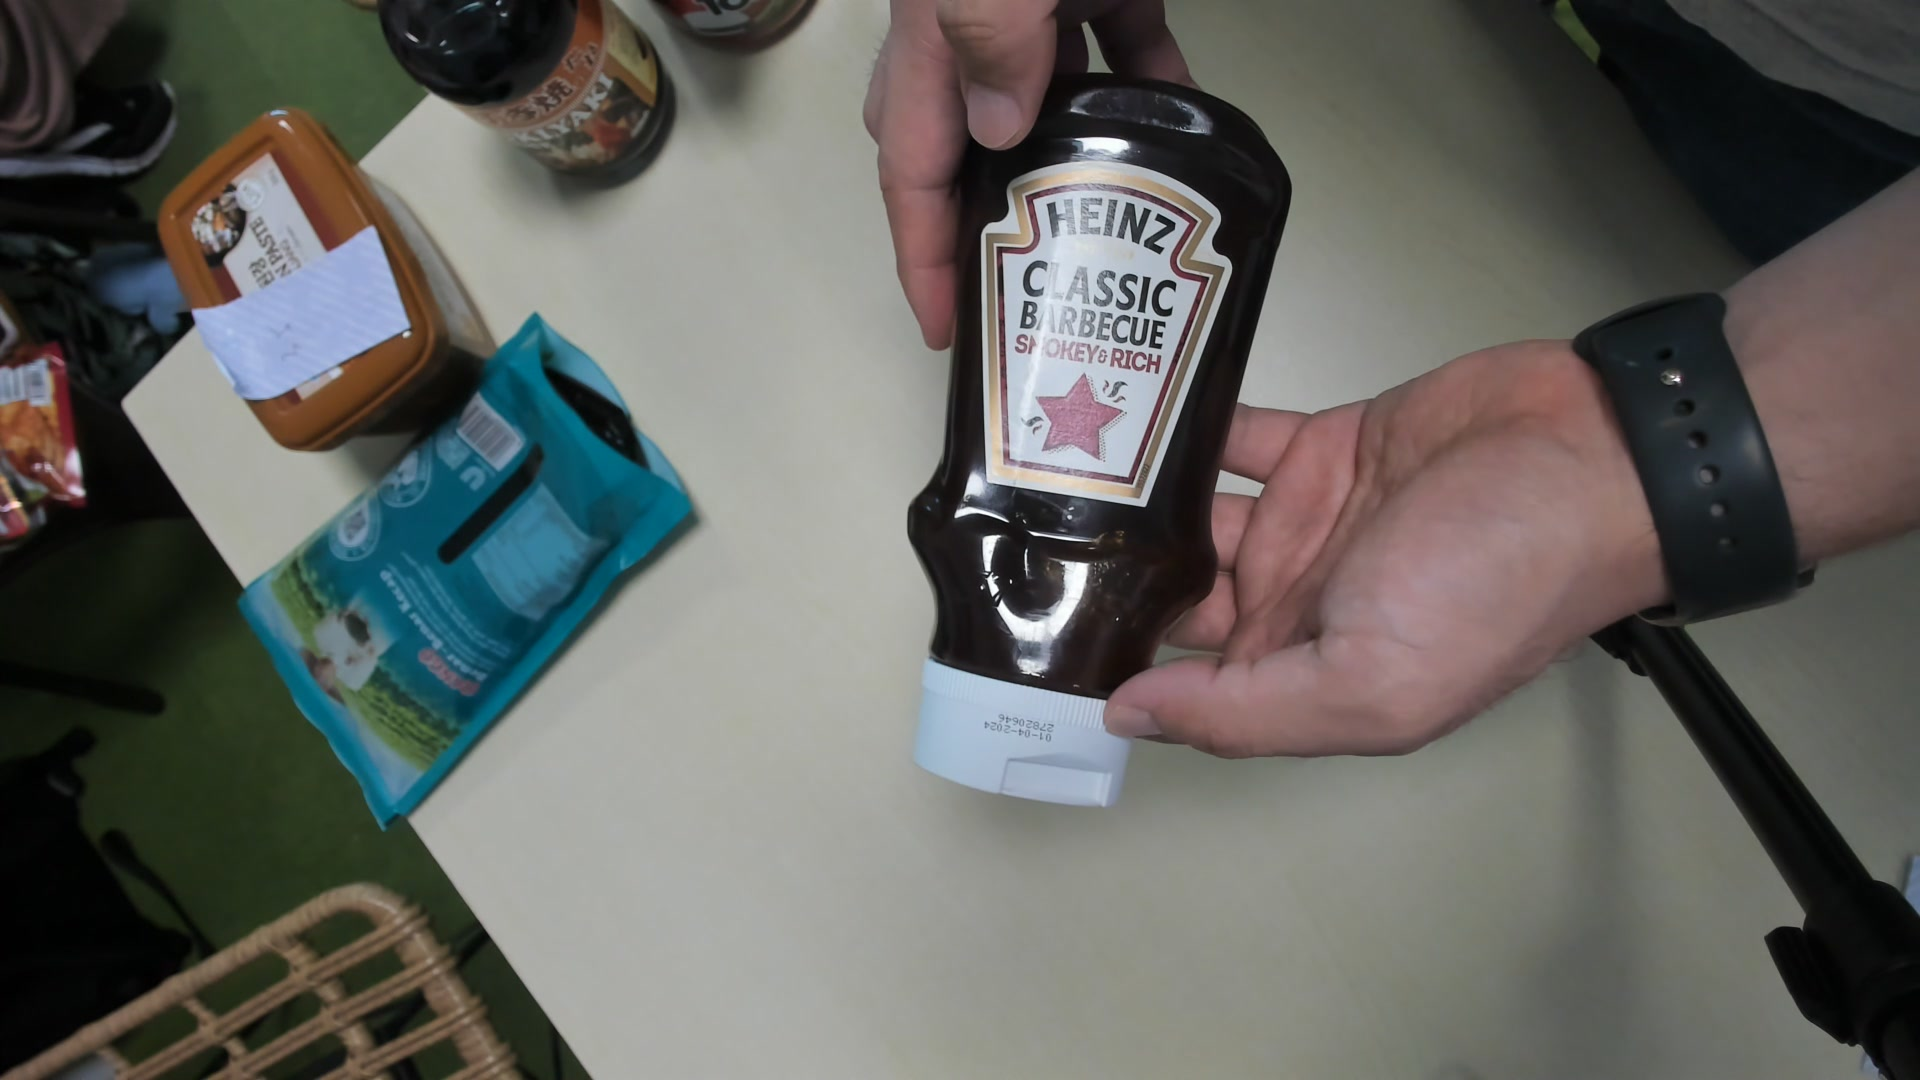OtherSauceDressing_400-499g_NonHalal_NonHealthy: (905, 82, 1290, 812)
